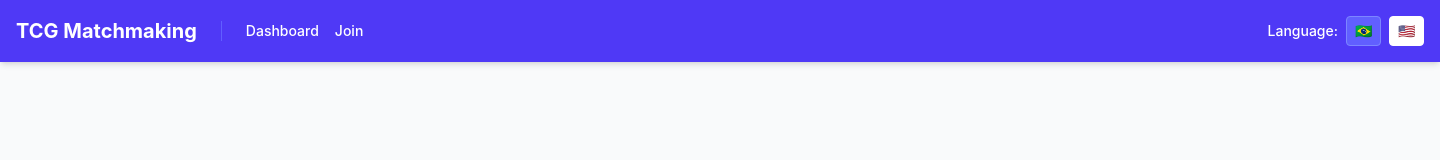
Test: NavigationBar › allows switching language through flags
Click the button named "Portuguese (Brazil)". click: [1364, 31]
box: left=1346, top=16, right=1381, bottom=46
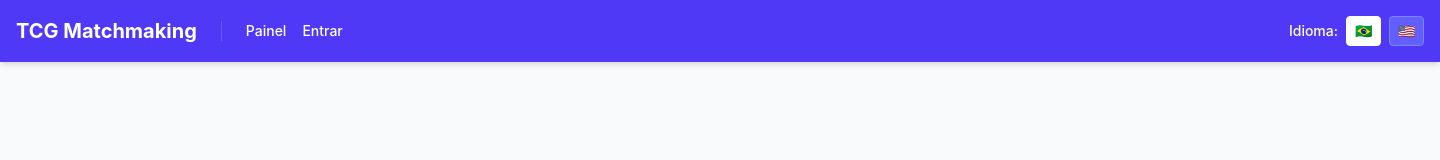
Expected: the link "Painel" is shown, left=246, top=21, right=286, bottom=41
